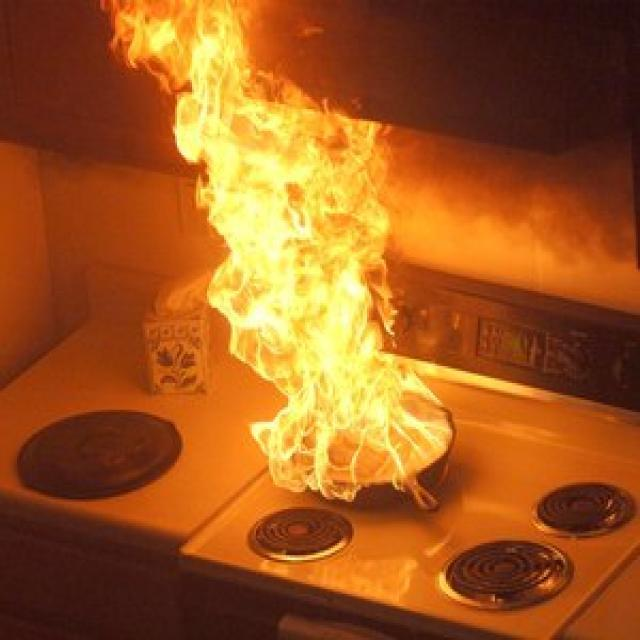Fire: (110, 0, 473, 508)
